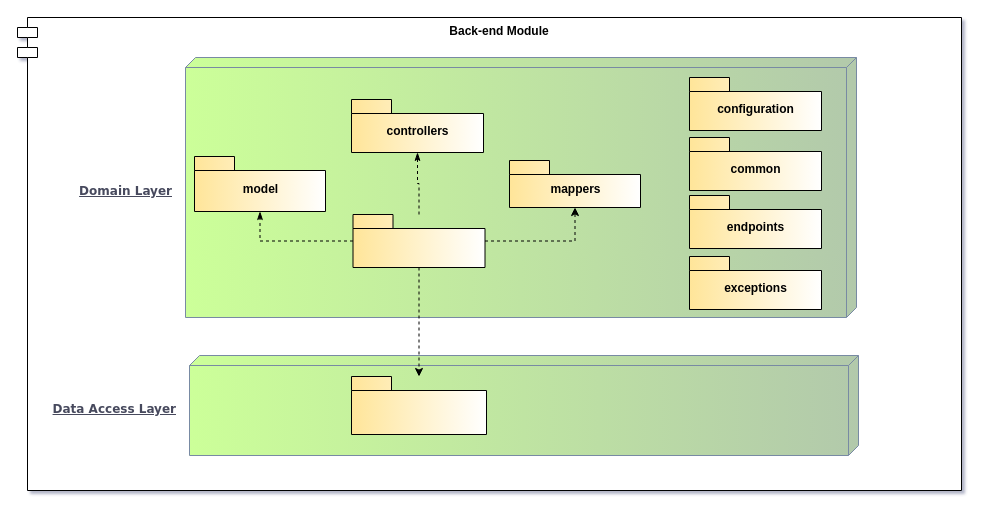
Some shapes in this 985 by 514 pixel diagram are drawn without their labels. Here are the shapes that lost their labels. From the top down, the centre of each, then its label:
At (x=418, y=241): "services".
At (x=418, y=405): "repositories".
